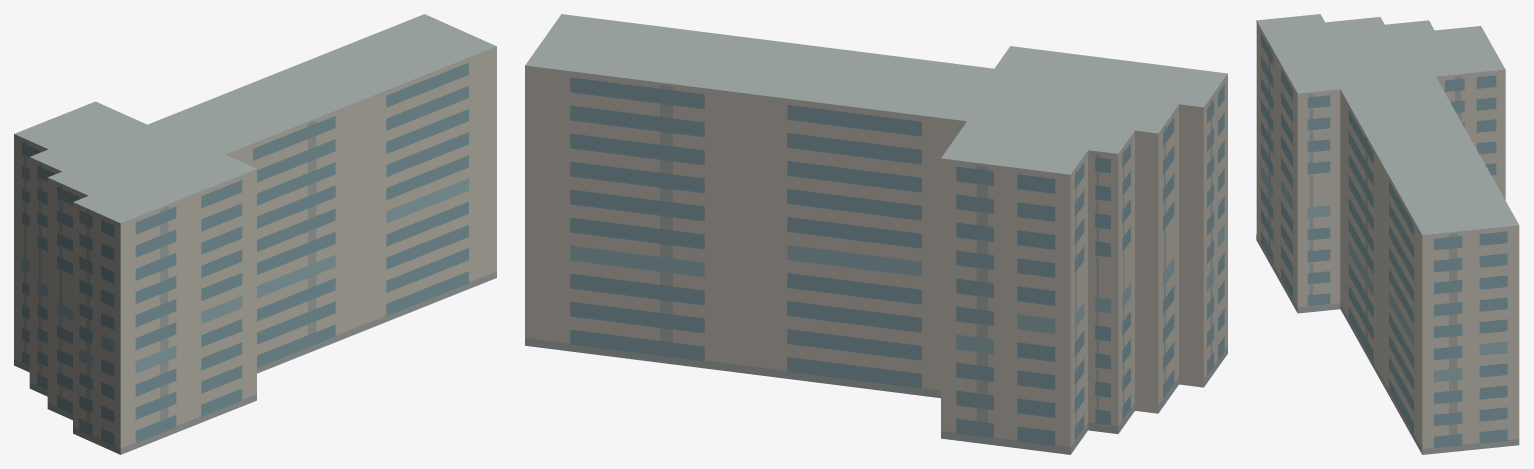
Rendered from residential-a0cd1581-3b5e-4261-b962-b4a4d8f91073.glb.
3 renders of one model, left to right at view 1: azimuth 30°, elevation 25°; view 2: azimuth 150°, elevation 25°; view 3: azimuth 270°, elevation 25°, orthographic. The views are drawn at different scales.
Parts seen in each view (by area): view 1: residential-a0cd1581-3b5e-4261-b962-b4a4d8f91073.tmp; view 2: residential-a0cd1581-3b5e-4261-b962-b4a4d8f91073.tmp; view 3: residential-a0cd1581-3b5e-4261-b962-b4a4d8f91073.tmp.
Boxes of the visible parts, box(x1,y1,x2,y2) form: residential-a0cd1581-3b5e-4261-b962-b4a4d8f91073.tmp: box(14, 14, 496, 454); residential-a0cd1581-3b5e-4261-b962-b4a4d8f91073.tmp: box(525, 14, 1227, 454); residential-a0cd1581-3b5e-4261-b962-b4a4d8f91073.tmp: box(1256, 14, 1519, 454).
Bounding box in the file's own units: 58.24 × 27 × 29.28.
